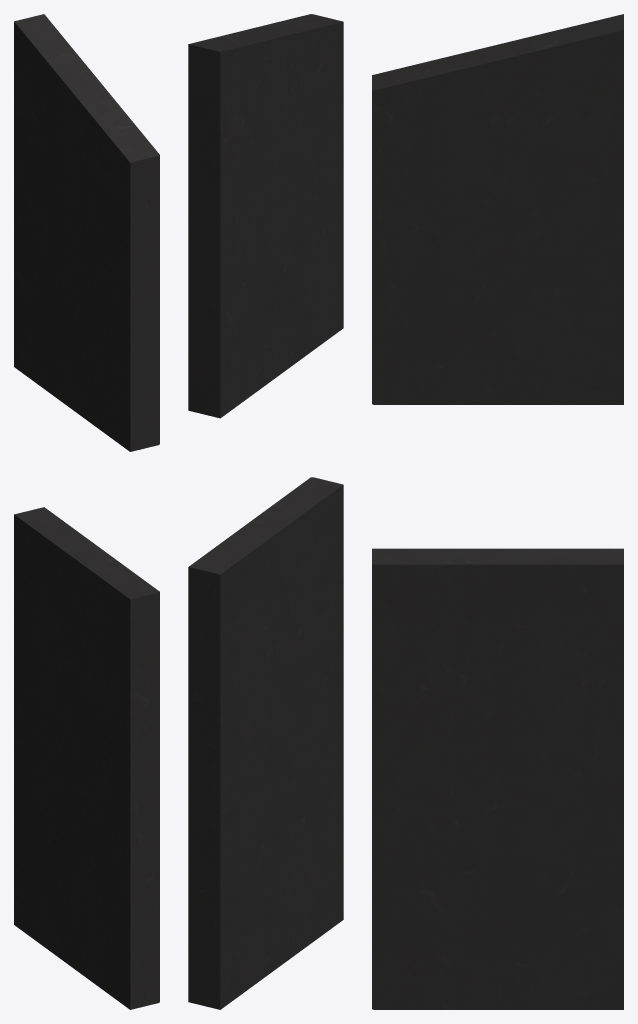
The model's file is A13.1.1 H.WALL. PNL 1642 UP + 1950 DWN E2.fbx.
3 views of the same model, side by side, from view 1: azimuth 30°, elevation 25°; view 2: azimuth 150°, elevation 25°; view 3: azimuth 270°, elevation 25° (orthographic). The views are drawn at different scales.
Visible parts, largest first — view 1: Group1, Model; view 2: Group1, Model; view 3: Group1, Model.
Boxes of the visible parts, left/top/right/bottom form: Group1: left=14, top=507, right=159, bottom=1009; Model: left=14, top=14, right=159, bottom=451; Group1: left=188, top=477, right=343, bottom=1009; Model: left=188, top=14, right=343, bottom=418; Group1: left=372, top=548, right=623, bottom=1009; Model: left=372, top=14, right=623, bottom=404.
Bounding box in the file's own units: 150 × 4292 × 1000.
